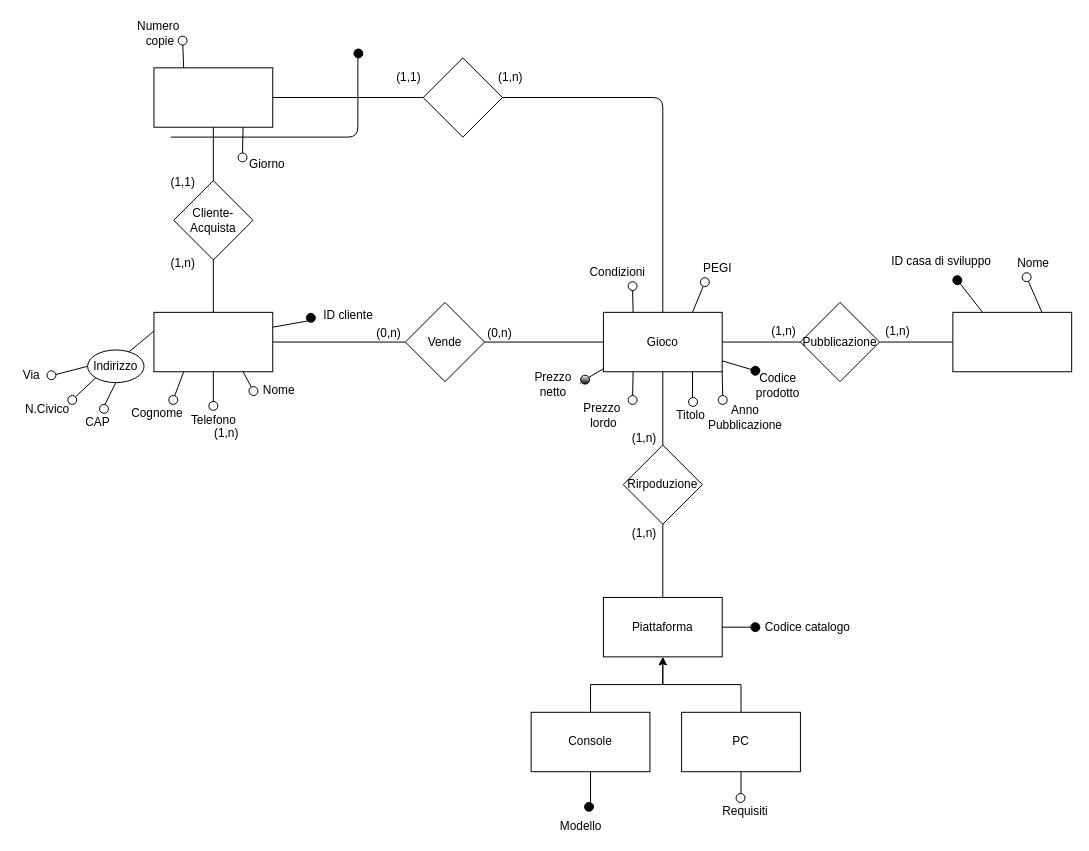
This 1089x851 diagram has some shape labels left out. The shapes that lost their labels are listed below. From the top down, each one's centre as x and y in pixels, then its label:
At point 213,97: "Acquista".
At point 462,97: "Acquista-Gioco".
At point 213,341: "Cliente".
At point 1012,341: "Casa di sviluppo".
